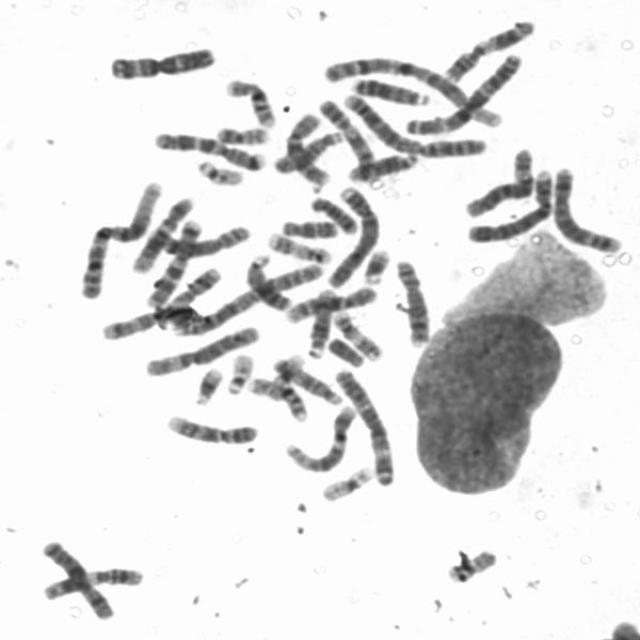A1: (319, 52, 507, 130), (76, 176, 165, 301)
A2: (168, 259, 328, 338), (337, 88, 493, 160)
A3: (401, 47, 528, 137), (331, 363, 400, 488), (105, 48, 218, 83)
B4: (464, 164, 558, 244), (323, 180, 383, 289)
B5: (96, 261, 224, 342), (548, 162, 626, 255)
C10: (280, 281, 378, 325), (282, 110, 330, 189)
C11: (438, 14, 536, 84), (37, 562, 146, 602)
C12: (127, 192, 196, 275), (282, 402, 359, 475)
C6: (139, 321, 261, 378), (461, 144, 538, 220)
C7: (142, 215, 205, 311), (150, 128, 267, 172)
C8: (389, 254, 433, 348), (152, 220, 254, 259)
C9: (314, 94, 381, 180), (161, 409, 260, 447)
D13: (241, 248, 293, 312), (349, 74, 433, 107)
D14: (343, 147, 422, 183), (302, 284, 337, 360)
D15: (268, 353, 346, 408), (268, 127, 346, 175)
E16: (243, 372, 308, 423), (221, 75, 277, 129)
E17: (329, 307, 385, 362), (262, 227, 334, 265)
E18: (304, 192, 359, 236), (276, 215, 341, 239)
F19: (317, 463, 374, 503), (271, 352, 306, 388)
F20: (443, 544, 498, 584), (211, 121, 272, 146)
G21: (189, 362, 226, 406), (358, 244, 392, 286)
G22: (192, 156, 246, 188), (222, 348, 256, 396)
X: (38, 536, 118, 620)
Y: (323, 332, 368, 368)
